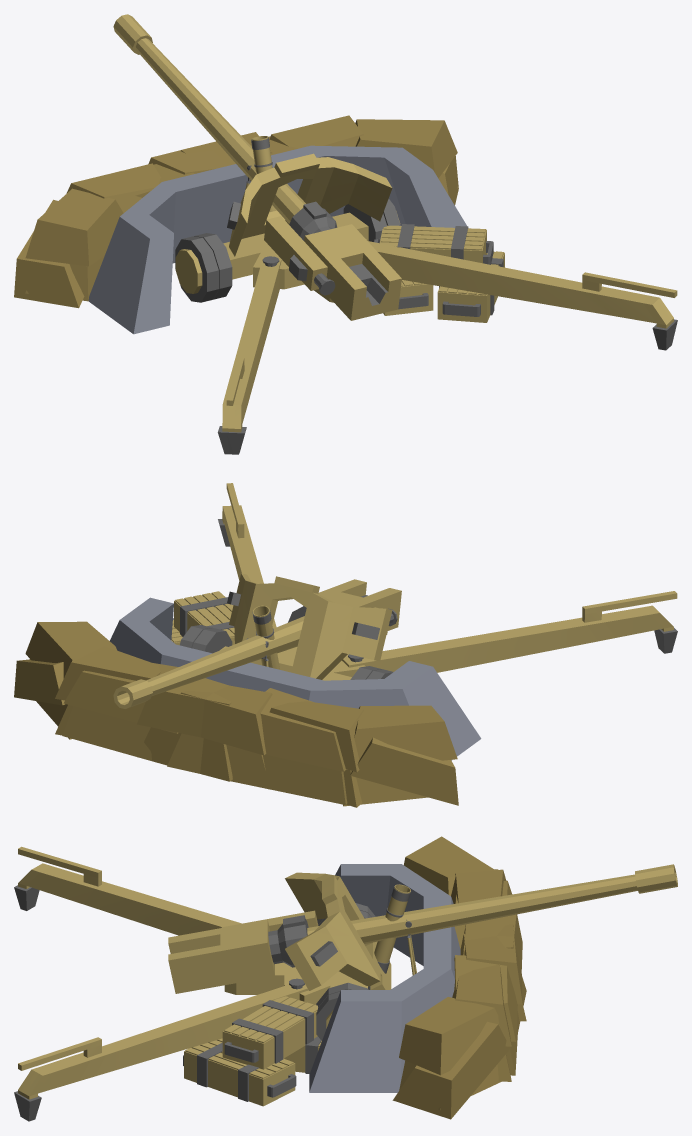
File: mortars_tiers_desert.fbx
3 renders of one model, top to bottom at view 1: azimuth 30°, elevation 25°; view 2: azimuth 150°, elevation 25°; view 3: azimuth 270°, elevation 25°, orthographic.
Visible parts, largest first — view 1: mortar_t3, mortar_dot_t2, mortar_dot_t3, mortar_dot_t1, mortar_t2, mortar_t1; view 2: mortar_t3, mortar_dot_t3, mortar_dot_t1, mortar_dot_t2, mortar_t2, mortar_t1; view 3: mortar_t3, mortar_dot_t2, mortar_dot_t3, mortar_t2, mortar_dot_t1, mortar_t1.
Part boxes in pixels (bbox=[...]): mortar_t3: bbox=[113, 14, 677, 454]; mortar_dot_t2: bbox=[88, 145, 466, 334]; mortar_dot_t3: bbox=[14, 115, 458, 308]; mortar_dot_t1: bbox=[17, 119, 457, 265]; mortar_t2: bbox=[374, 224, 504, 322]; mortar_t1: bbox=[245, 136, 276, 212]; mortar_t3: bbox=[113, 483, 677, 708]; mortar_dot_t3: bbox=[14, 646, 457, 806]; mortar_dot_t1: bbox=[25, 621, 458, 807]; mortar_dot_t2: bbox=[110, 597, 481, 760]; mortar_t2: bbox=[171, 591, 234, 645]; mortar_t1: bbox=[246, 605, 279, 669]; mortar_t3: bbox=[14, 846, 677, 1121]; mortar_dot_t2: bbox=[309, 864, 460, 1092]; mortar_dot_t3: bbox=[392, 836, 526, 1119]; mortar_t2: bbox=[183, 996, 321, 1106]; mortar_dot_t1: bbox=[399, 869, 526, 1109]; mortar_t1: bbox=[368, 884, 416, 989].
Bounding box in the file's own units: 635 × 206 × 796.
